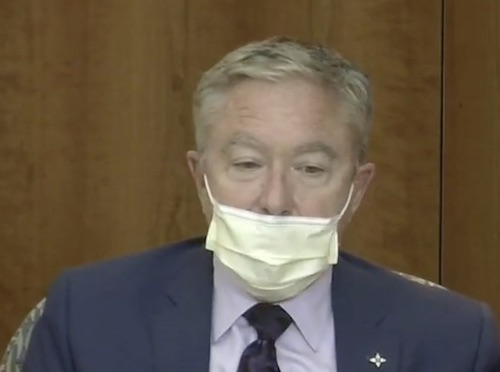nose_out: (188, 36, 377, 303)
